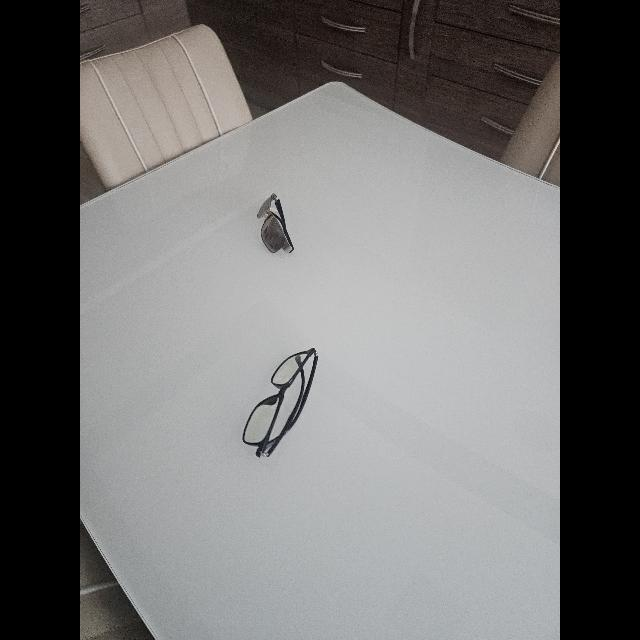Sunglasses: (258, 193, 294, 253)
glasses: (242, 348, 318, 458)
